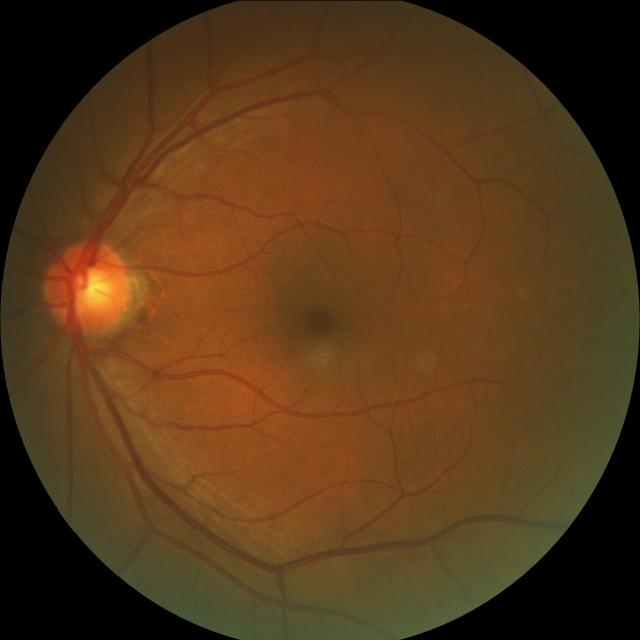OC: (72, 268, 114, 312)
OD: (50, 240, 134, 335)
